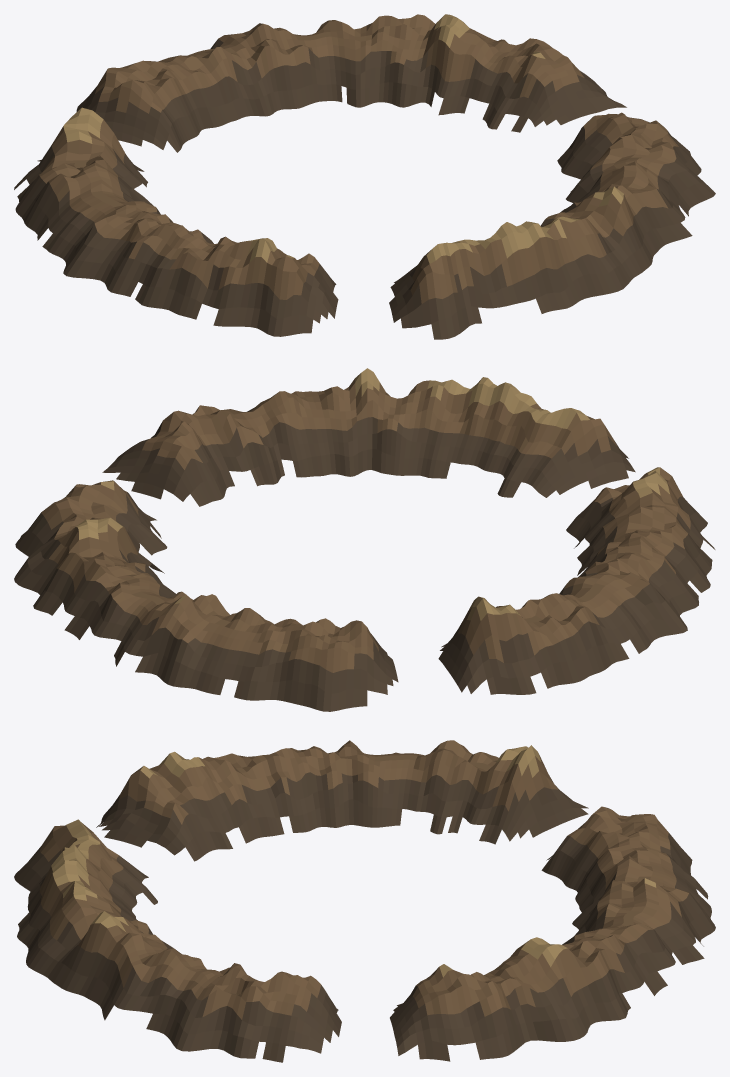
Rendered from mountain-range.glb.
3 views of the same model, one above another, from view 1: azimuth 30°, elevation 25°; view 2: azimuth 150°, elevation 25°; view 3: azimuth 270°, elevation 25° (orthographic). The views are drawn at different scales.
Parts seen in each view (by area): view 1: mountain-range; view 2: mountain-range; view 3: mountain-range.
Boxes of the visible parts, box(x1,y1,x2,y2) form: mountain-range: box(14, 14, 715, 339); mountain-range: box(14, 368, 715, 711); mountain-range: box(14, 740, 715, 1062).
Bounding box in the file's own units: 237 × 28.07 × 236.
